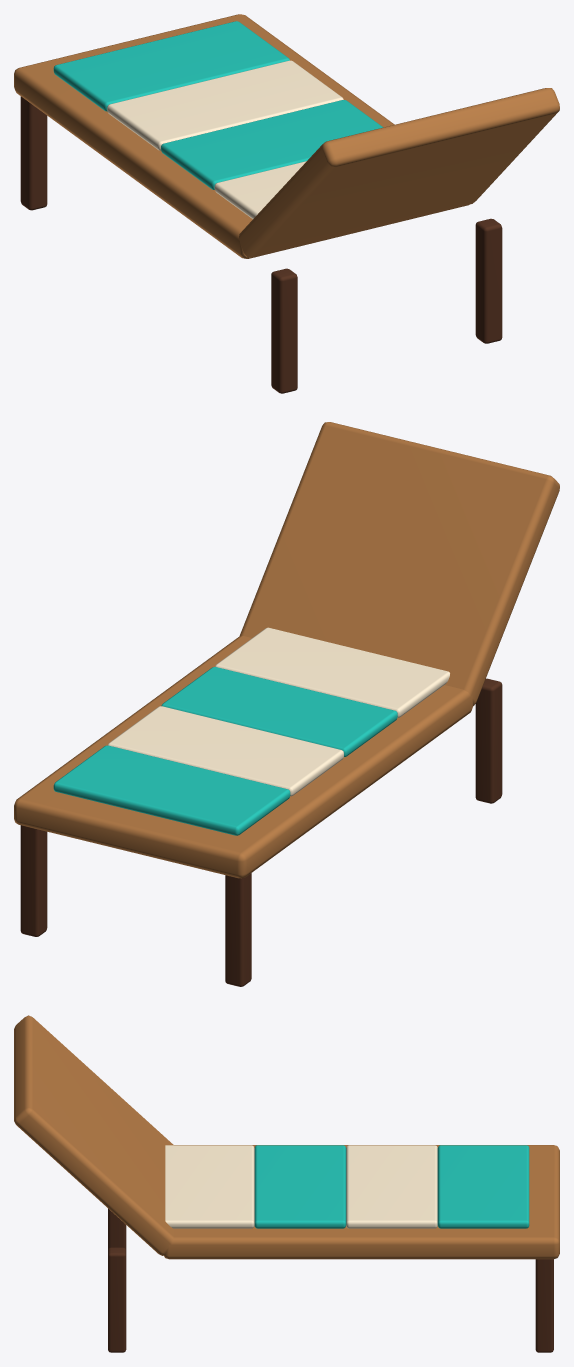
Rendered from lava_lounger.glb.
3 views of the same model, one above another, from view 1: azimuth 30°, elevation 25°; view 2: azimuth 150°, elevation 25°; view 3: azimuth 270°, elevation 25° (orthographic). The views are drawn at different scales.
Visible parts, largest first — view 1: Lounger; view 2: Lounger; view 3: Lounger.
Part boxes in pixels (<box>): Lounger: <box>14,14,559,393</box>; Lounger: <box>14,422,559,986</box>; Lounger: <box>14,1015,559,1352</box>.
Size of the model in its own units: 0.75 by 0.8875 by 1.79.
